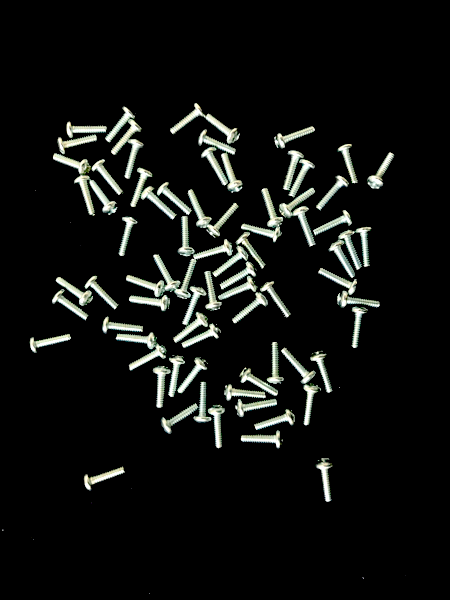shortscrew: (282, 347, 317, 385), (84, 275, 120, 311), (50, 289, 89, 322), (177, 356, 210, 395), (234, 231, 266, 270), (157, 181, 193, 215), (207, 203, 241, 239), (140, 186, 177, 219), (232, 292, 270, 324), (160, 403, 199, 434), (239, 366, 279, 396), (174, 311, 211, 343), (260, 281, 291, 319), (129, 342, 169, 371), (171, 102, 207, 134), (213, 246, 249, 278), (289, 158, 317, 199), (318, 268, 359, 296), (280, 188, 317, 219), (367, 152, 397, 190), (291, 206, 318, 248), (317, 176, 350, 210), (112, 120, 144, 155), (56, 277, 93, 307), (106, 107, 137, 142), (90, 180, 120, 216), (314, 209, 354, 236), (153, 255, 182, 292), (198, 130, 239, 156), (182, 323, 223, 349), (220, 262, 258, 290), (328, 241, 356, 279), (84, 466, 126, 491), (206, 115, 241, 145), (201, 147, 227, 187), (310, 350, 334, 393), (275, 126, 316, 151), (28, 332, 72, 355), (188, 190, 213, 230), (338, 230, 363, 270), (131, 167, 155, 208), (221, 153, 245, 194), (183, 285, 207, 325), (336, 143, 358, 186), (315, 459, 336, 504), (283, 149, 306, 190), (74, 175, 96, 217), (241, 224, 285, 245), (126, 275, 166, 298), (235, 398, 278, 419), (262, 188, 284, 229), (53, 153, 92, 176), (176, 260, 198, 300), (118, 216, 139, 257), (125, 139, 146, 179), (178, 216, 198, 257), (302, 384, 322, 425), (203, 272, 223, 313), (195, 239, 234, 260), (241, 430, 284, 449), (337, 291, 380, 310), (167, 355, 186, 398), (224, 383, 266, 402), (208, 405, 226, 449), (153, 365, 171, 409), (57, 135, 98, 154), (101, 316, 144, 334), (351, 306, 369, 349), (116, 332, 158, 350), (267, 342, 285, 384), (356, 226, 374, 267), (129, 295, 172, 312), (194, 381, 211, 423), (67, 122, 107, 139)
